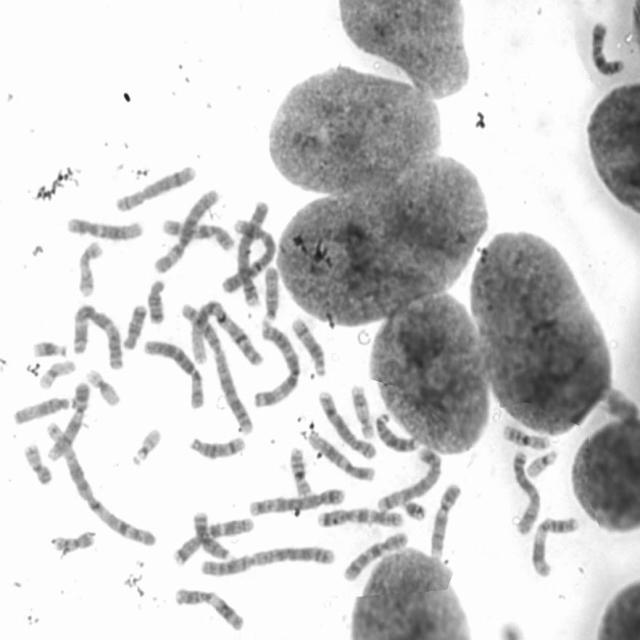A1: (42, 417, 159, 549), (182, 296, 265, 368)
A2: (177, 295, 256, 437), (196, 539, 340, 579)
A3: (250, 317, 302, 408), (69, 298, 127, 372)
B4: (219, 218, 280, 297), (236, 199, 270, 308)
B5: (374, 441, 445, 513), (246, 482, 346, 517)
C10: (339, 526, 410, 583), (159, 212, 237, 252)
C11: (171, 583, 247, 633), (528, 511, 582, 578)
C12: (304, 427, 377, 482), (63, 212, 146, 241)
C6: (150, 182, 223, 275), (140, 334, 206, 411)
C7: (169, 513, 256, 567), (314, 503, 406, 529)
C8: (314, 384, 378, 461), (111, 160, 198, 213)
C9: (44, 376, 93, 462), (428, 478, 463, 558)
D13: (190, 507, 234, 561), (371, 409, 421, 454)
D14: (288, 313, 330, 378), (185, 430, 248, 461)
D15: (10, 391, 76, 425), (259, 262, 282, 325)
E16: (499, 419, 552, 451), (286, 442, 314, 498)
E17: (73, 236, 105, 298), (347, 379, 377, 440)
E18: (119, 299, 148, 351), (144, 274, 168, 326)
F19: (82, 364, 123, 408), (36, 355, 78, 390)
F20: (20, 438, 54, 486), (48, 526, 97, 553)
G21: (29, 335, 70, 359), (398, 494, 428, 522)
G22: (128, 422, 163, 467), (522, 446, 560, 480)
X: (508, 446, 542, 536), (586, 15, 626, 76)
